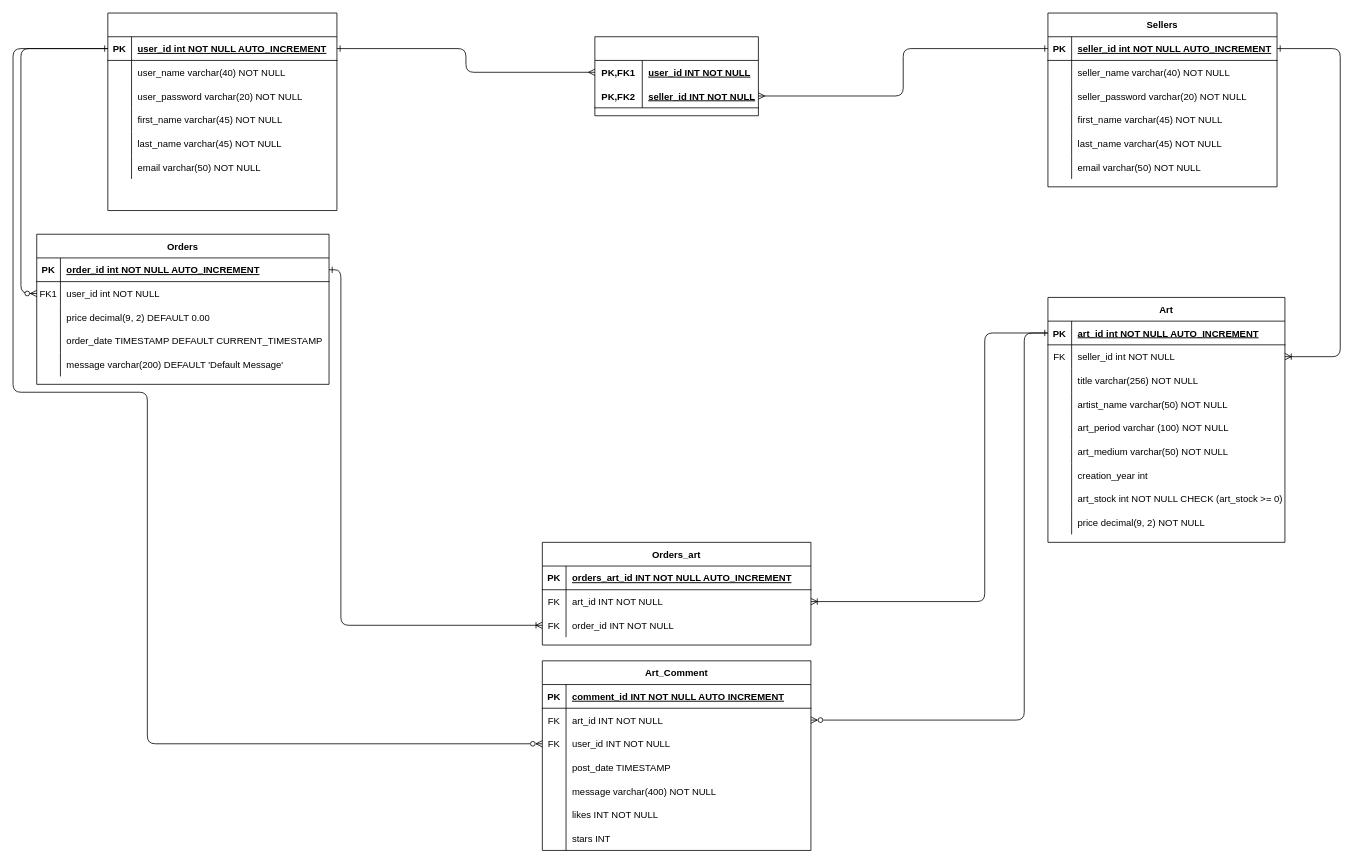
Image size: 1353x863. Some labels were removed from this diagram. Each missing label, with the box of its shape:
follow: (594, 36, 758, 116)
Users: (107, 12, 337, 211)
